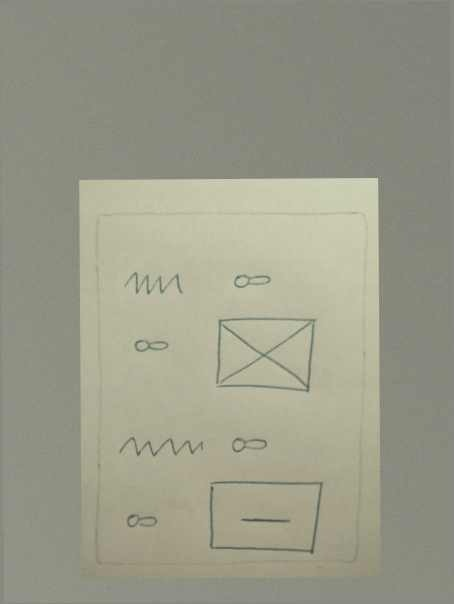image: (208, 311, 324, 403), (202, 476, 329, 557)
switch: (223, 432, 281, 459), (119, 505, 167, 535), (227, 268, 278, 293), (131, 332, 177, 358)
text: (113, 427, 214, 468), (118, 267, 197, 302)
